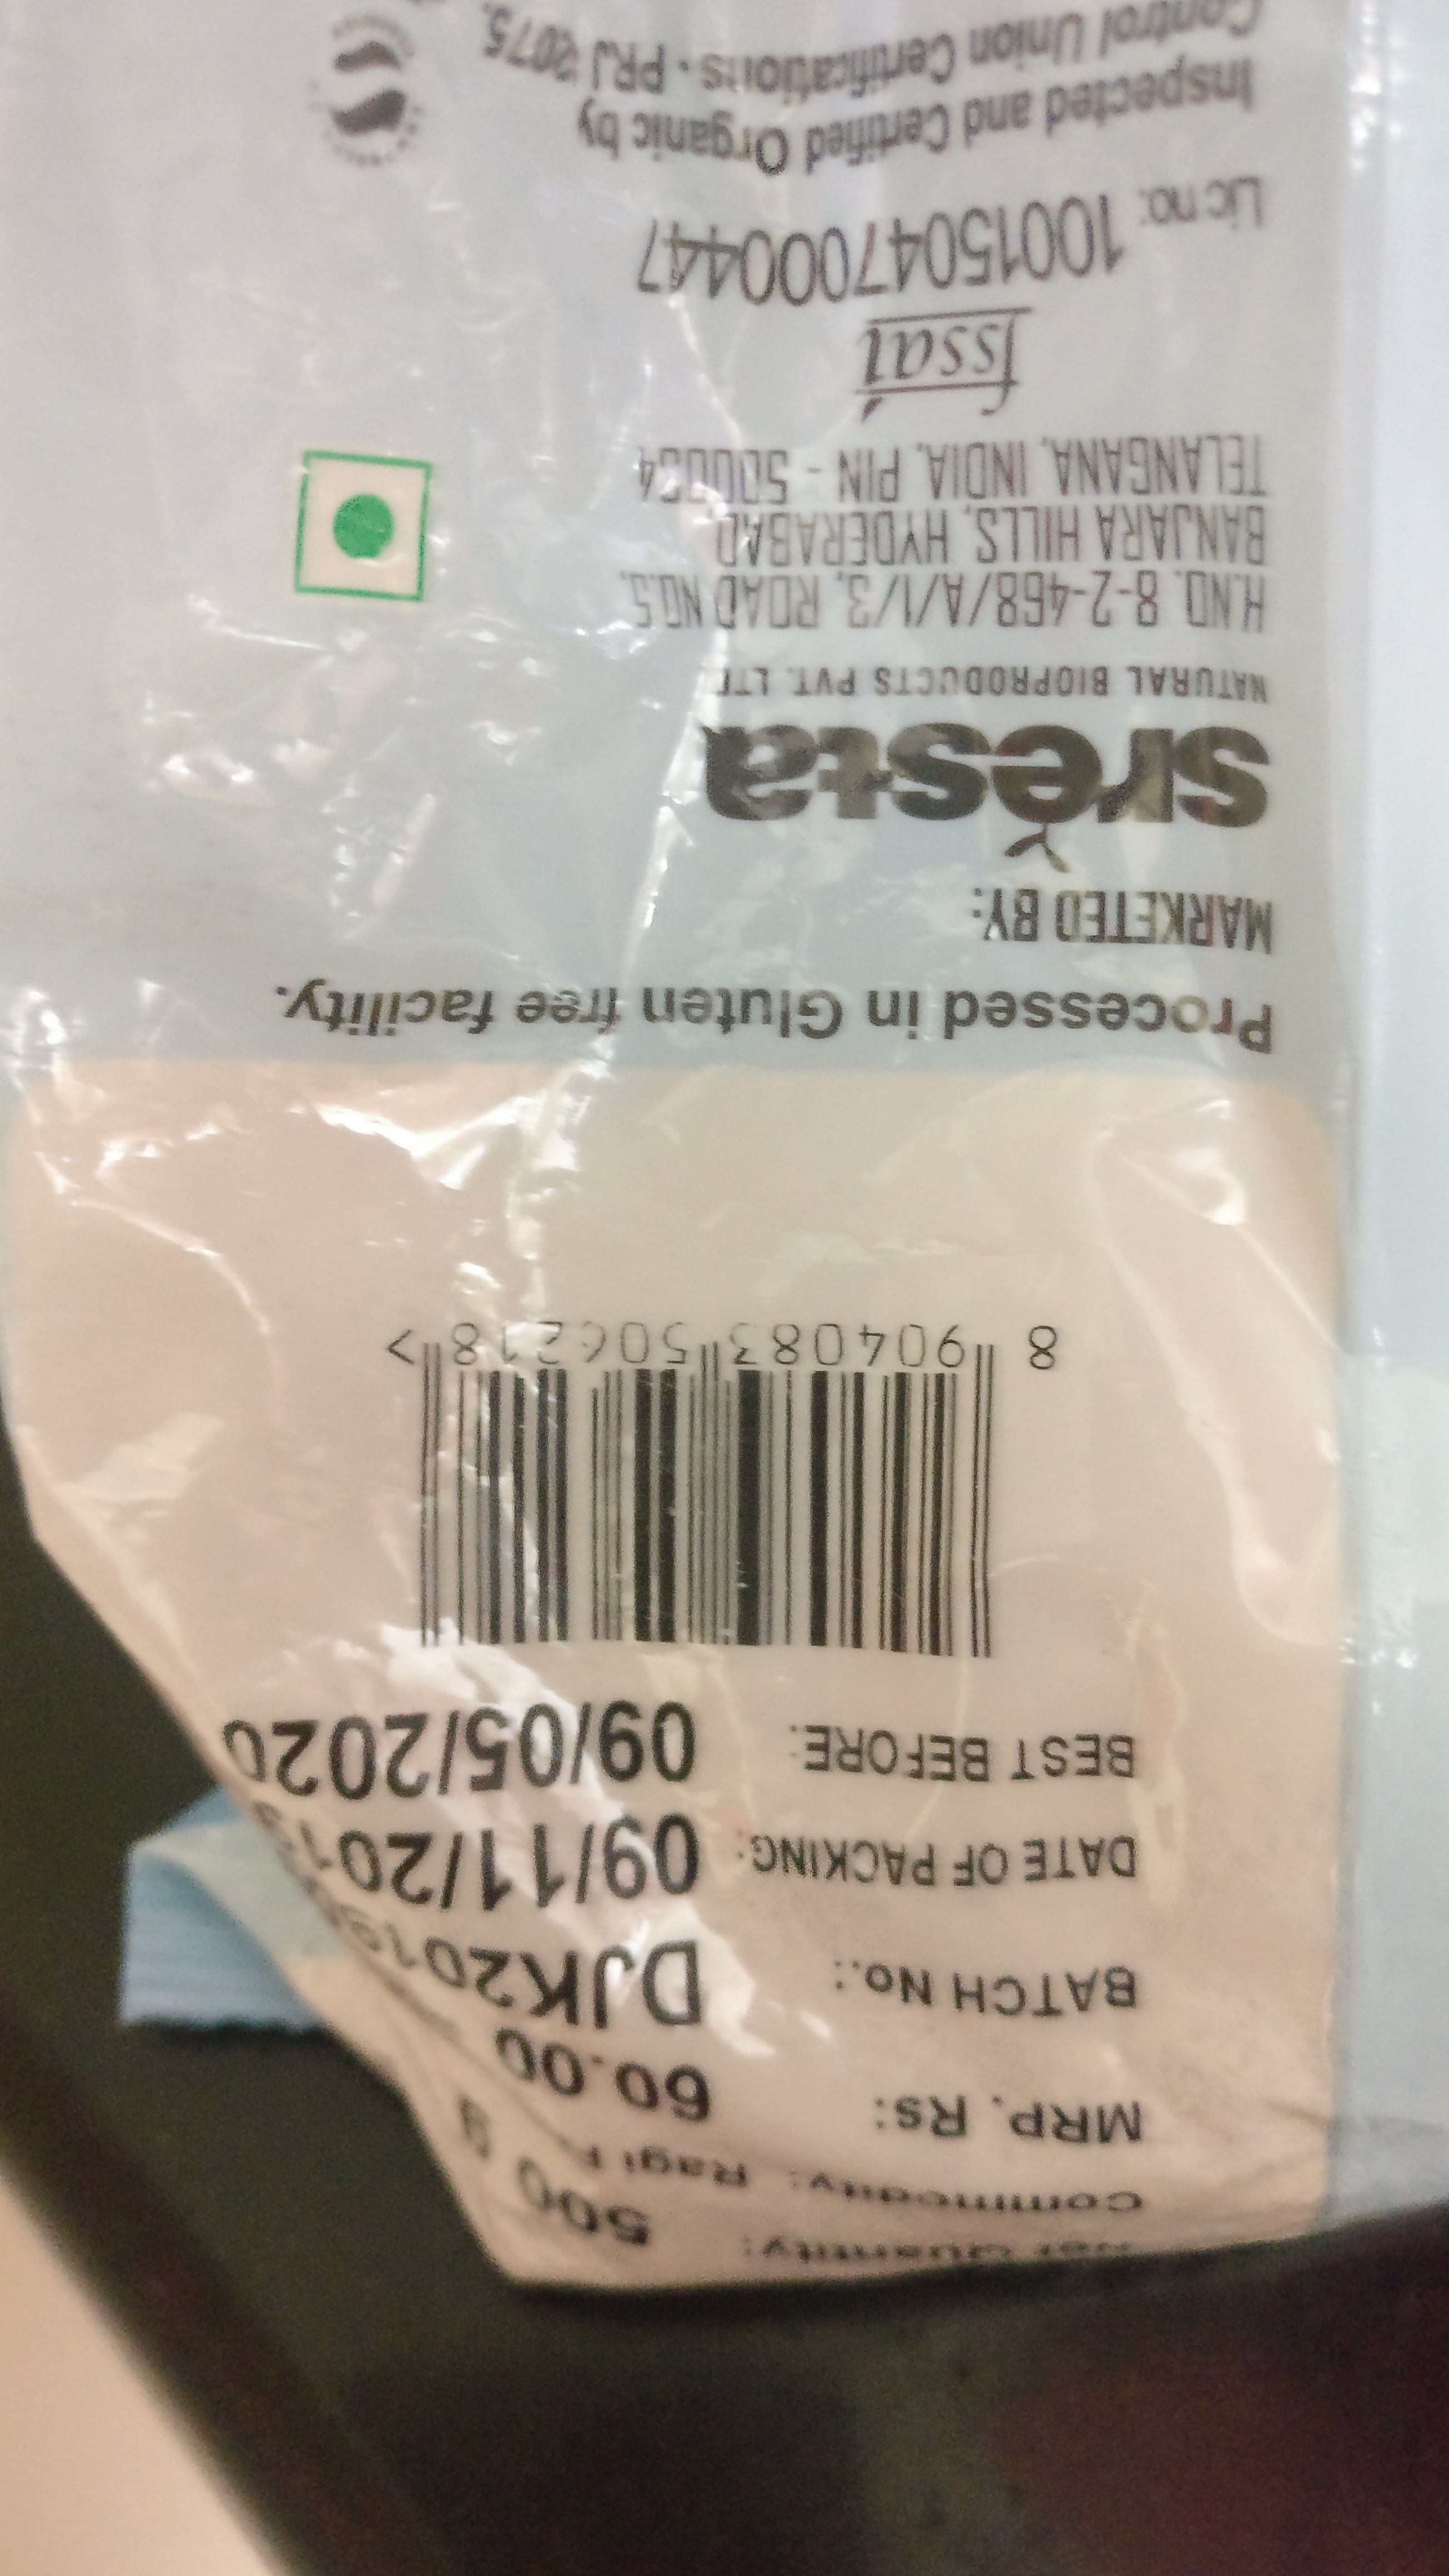barcode: (395, 1311, 1067, 1663)
